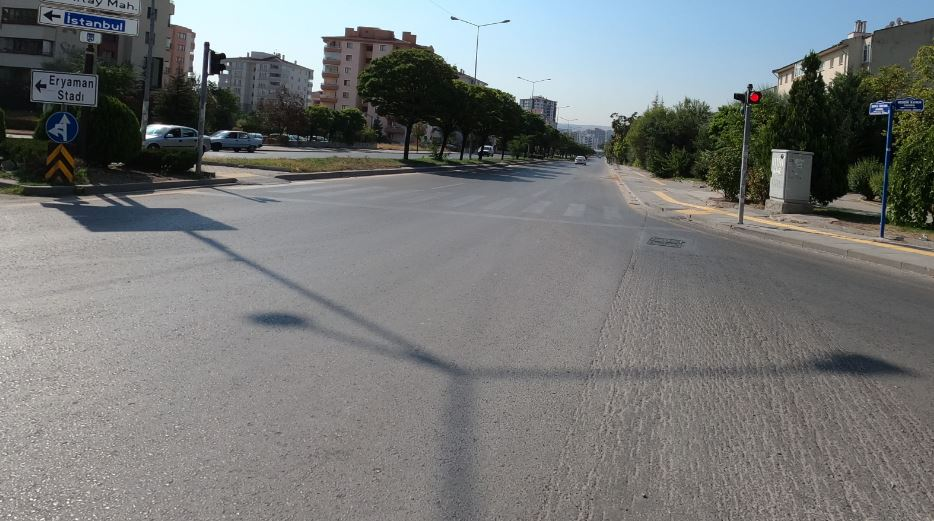ileri ve Sola Mecburi Don: (45, 113, 83, 144)
